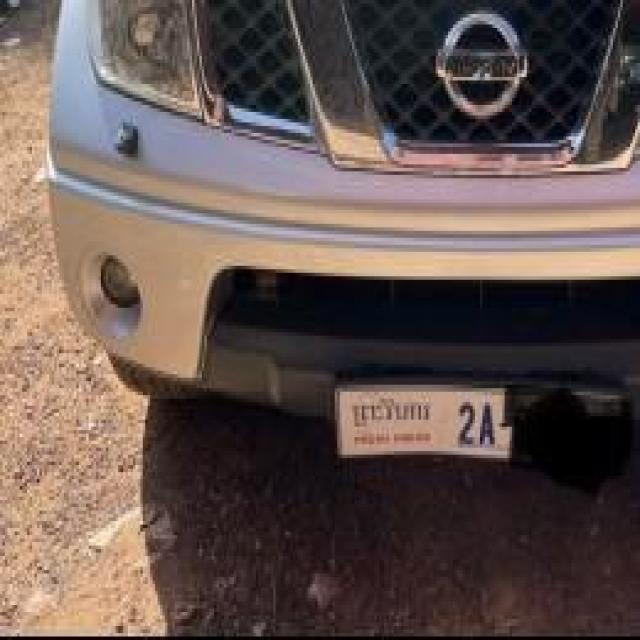Preah_Vihear: (352, 395, 431, 428)
